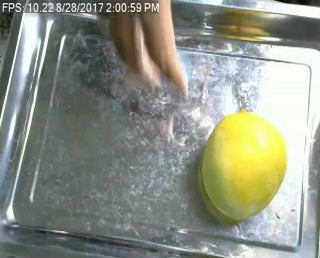Mango: (201, 113, 287, 217)
